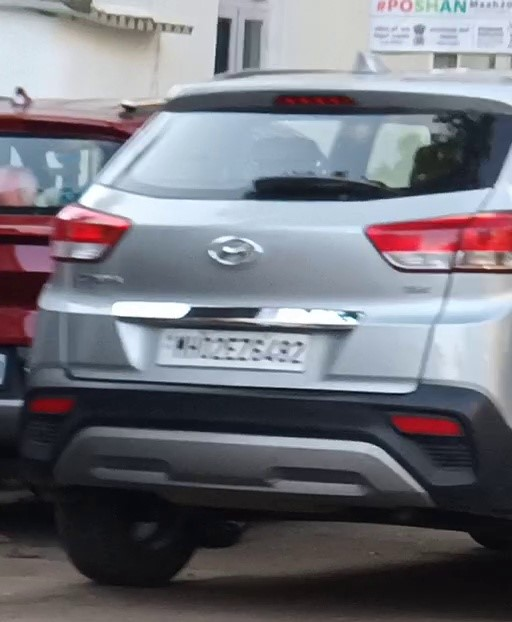MH02EZ6482: (157, 328, 312, 372)
